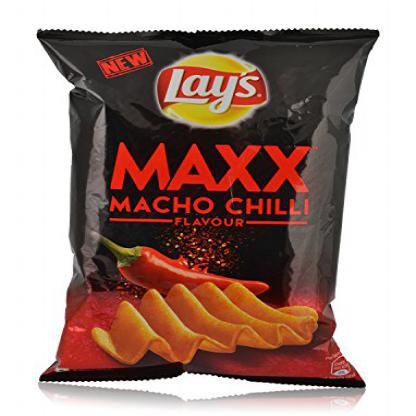max_chili: (35, 27, 381, 396)
